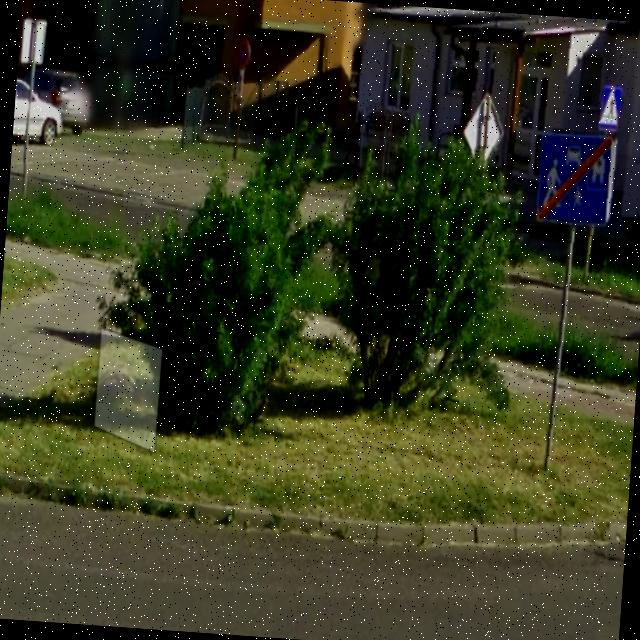Przejscie dla pieszych: (598, 84, 622, 132)
Zakaz zatrzymywania sie: (234, 33, 252, 70)
